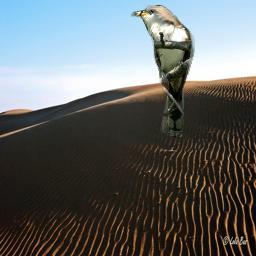Cuckoo: (131, 5, 195, 137)
